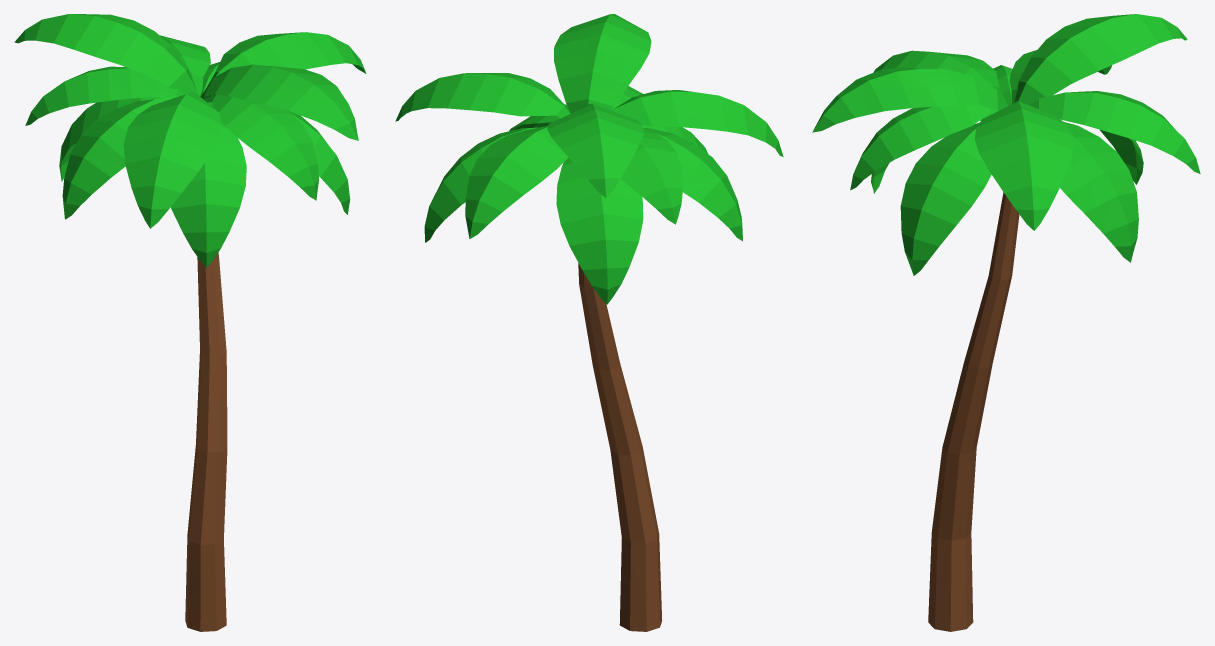
The model's file is Palm_Tree.fbx.
The picture shows the model from 3 angles, left to right: view 1: azimuth 30°, elevation 25°; view 2: azimuth 150°, elevation 25°; view 3: azimuth 270°, elevation 25°; orthographic projection. The views are drawn at different scales.
Visible parts, largest first — view 1: Palm-tree; view 2: Palm-tree; view 3: Palm-tree.
Boxes of the visible parts, left/top/right/bottom form: Palm-tree: left=14, top=14, right=366, bottom=631; Palm-tree: left=395, top=14, right=783, bottom=631; Palm-tree: left=812, top=14, right=1200, bottom=631.
Size of the model in its own units: 324 by 540 by 324.
